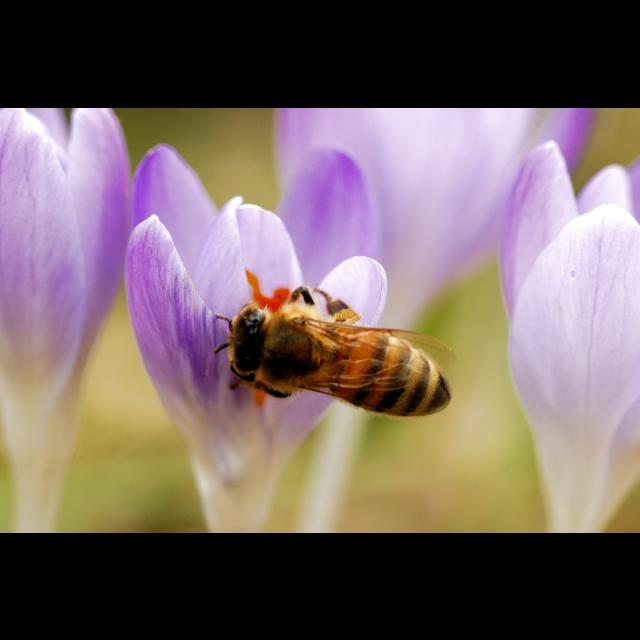Flower: (272, 108, 600, 532), (125, 142, 389, 532), (0, 108, 132, 532), (500, 145, 640, 523)
